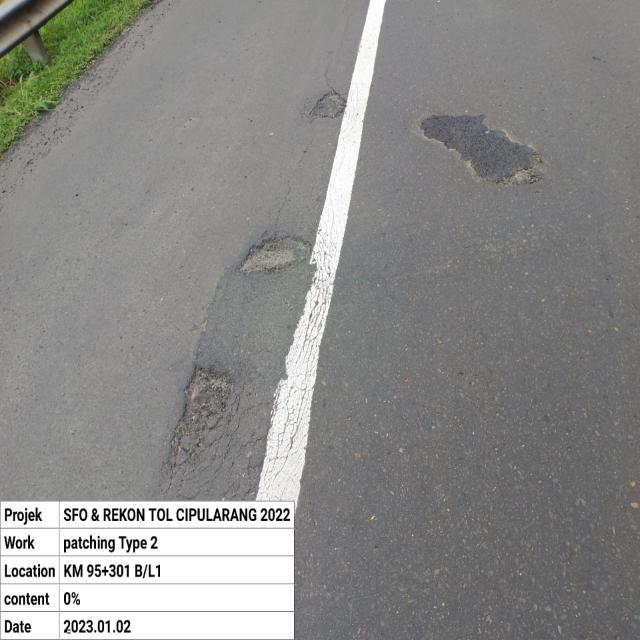Buraco: (158, 360, 240, 476), (232, 228, 315, 280), (490, 150, 551, 188), (307, 88, 349, 122)
